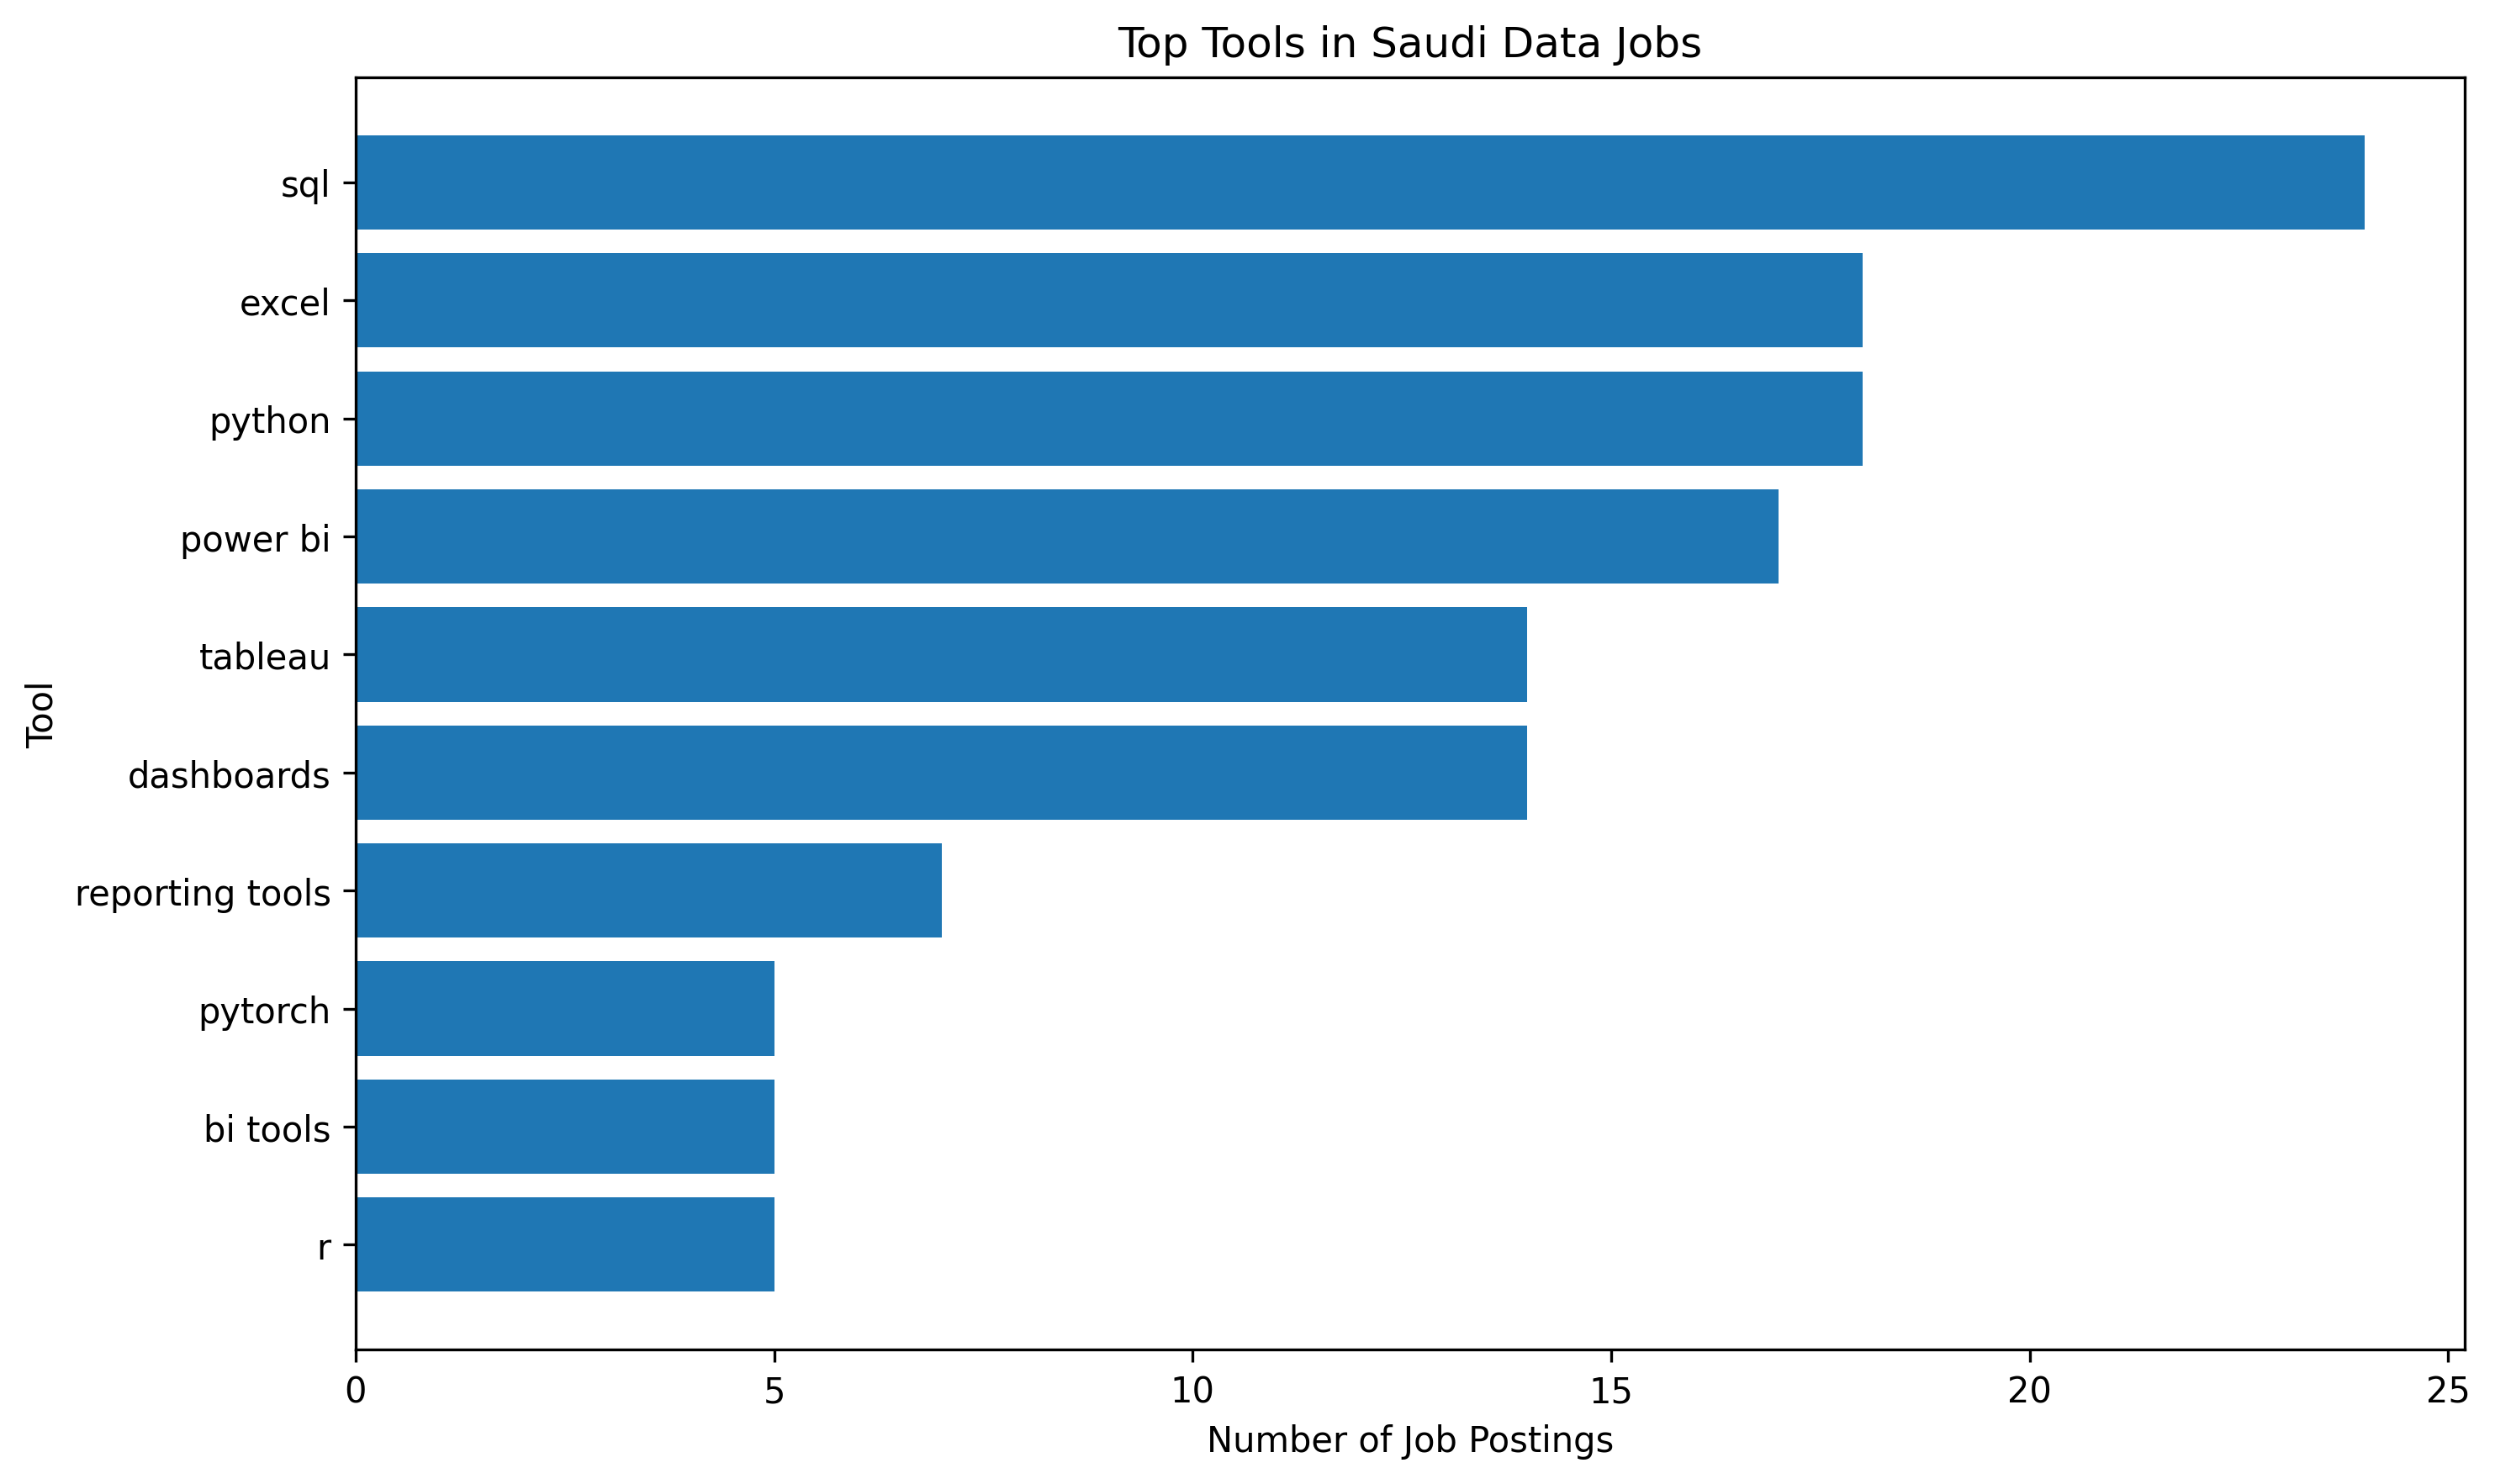

The page's visual inventory and layout, read from the dashboard file:
{"tool":"powerbi","page":{"name":"الصفحة 2","canvas":[1280,720],"ordinal":1},"visuals":[{"type":"clusteredColumnChart","fields":{"Category":["saudi_data_jobs_powerbi.tools"],"Y":["CountNonNull(saudi_data_jobs_powerbi.job_id)"]},"box":[0,0,1270.6,722.1],"z":0}]}

Visuals, with their boxes on the page's 1280x720 design canvas (x1, y1, x2, y2). These are canvas units, not pixel positions in the 2495x1484 screenshot, which may show the page scaled, cropped or inside an application window:
clusteredColumnChart - saudi_data_jobs_powerbi.tools x CountNonNull(saudi_data_jobs_powerbi.job_id): <bbox>0, 0, 1271, 722</bbox>
